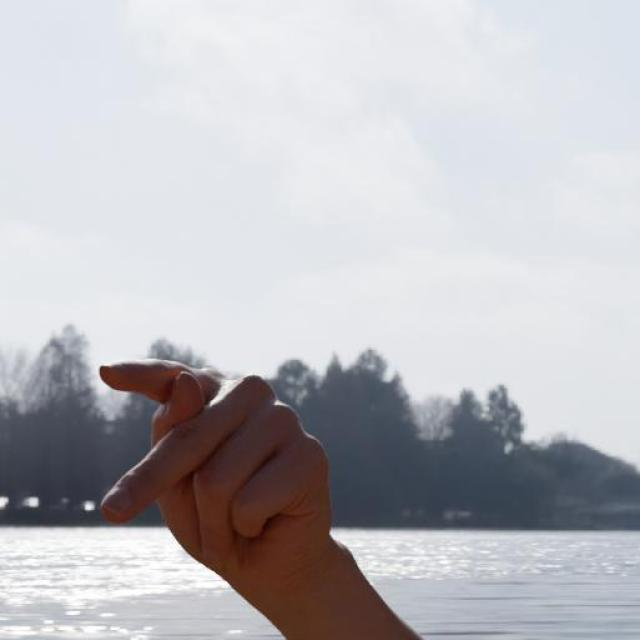P: (92, 347, 358, 568)
